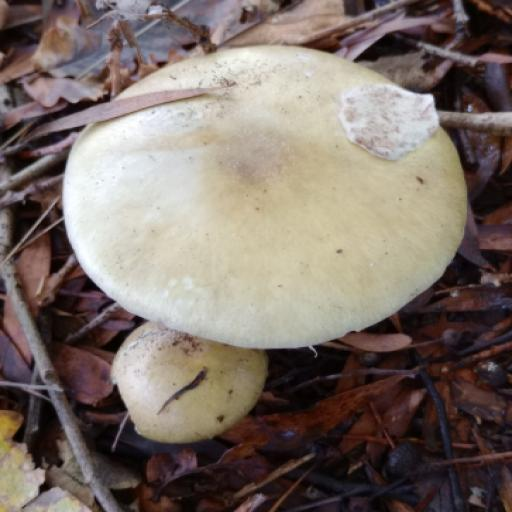Death Cap: (61, 40, 467, 353), (112, 328, 266, 454)
